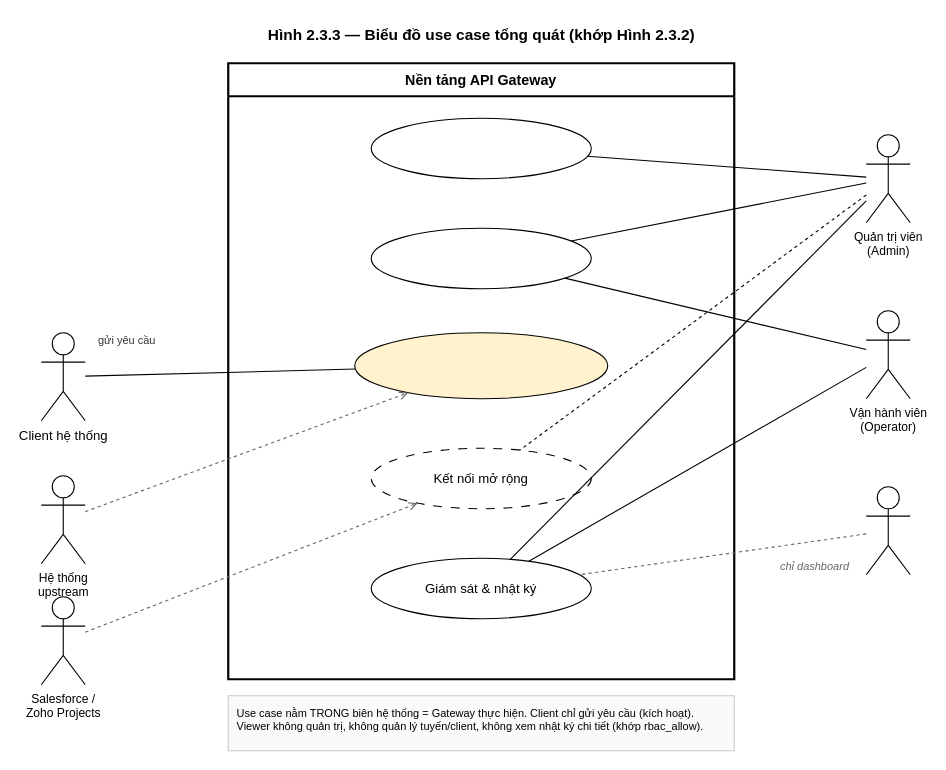
Some shapes in this 946 by 770 pixel diagram are drawn without their labels. The shapes that lost their labels are listed below. From the top down, each one's box as (x1, y1, x2, y2) in pixels, then its label:
(370, 117, 591, 179): Quản trị hệ thống
(370, 227, 591, 289): Quản lý tuyến & khách
(354, 332, 608, 399): Xử lý yêu cầu (do Gateway thực hiện)
(865, 486, 910, 575): Người xem (Viewer)
